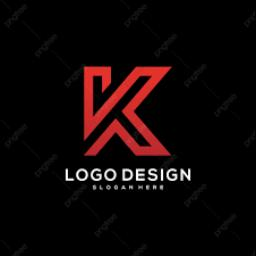k: (59, 51, 191, 173)
